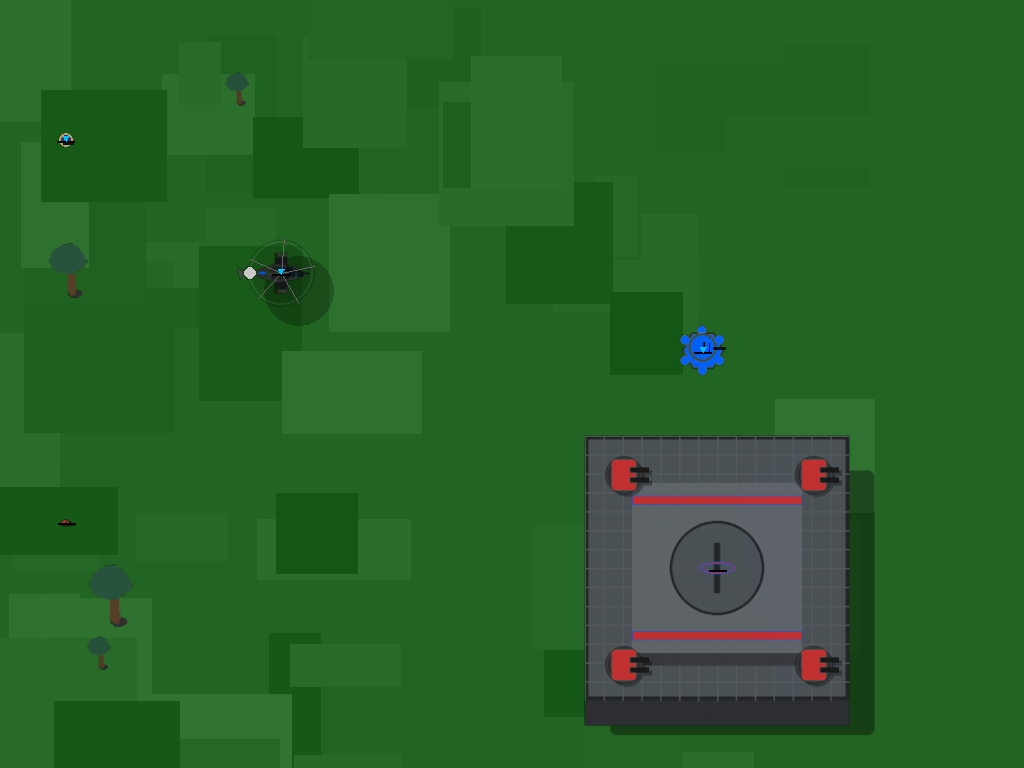Bastion: (561, 412, 804, 727)
Bunker: (675, 323, 731, 379)
Lake: (735, 415, 804, 710)
RocketTrooper: (52, 125, 80, 153)
Sniper: (53, 509, 80, 536)
WZ10: (253, 245, 309, 301)
